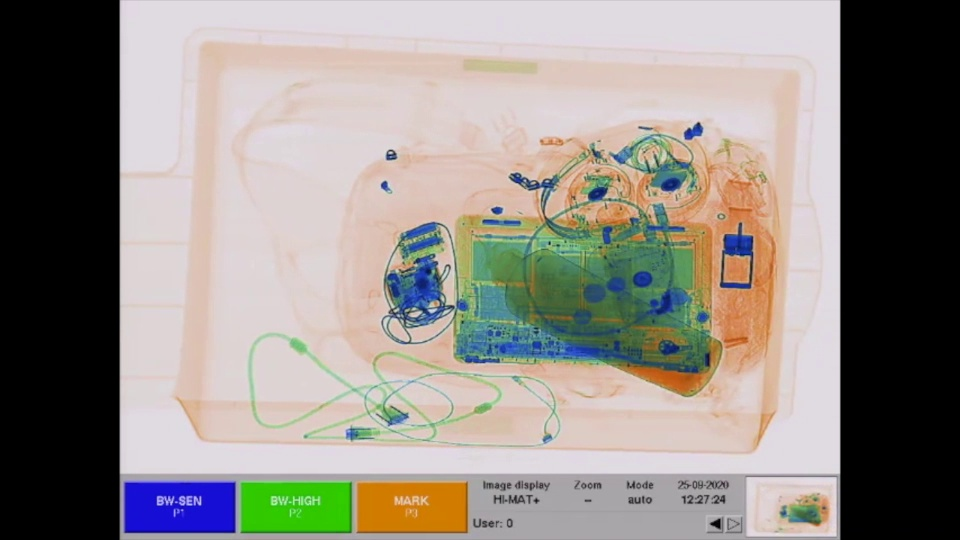tray_img: (146, 21, 825, 458)
